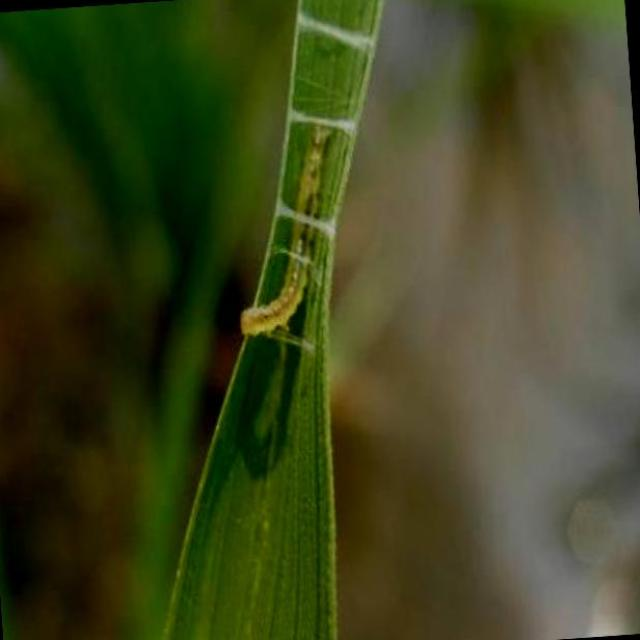leaf folder: (242, 252, 310, 336)
